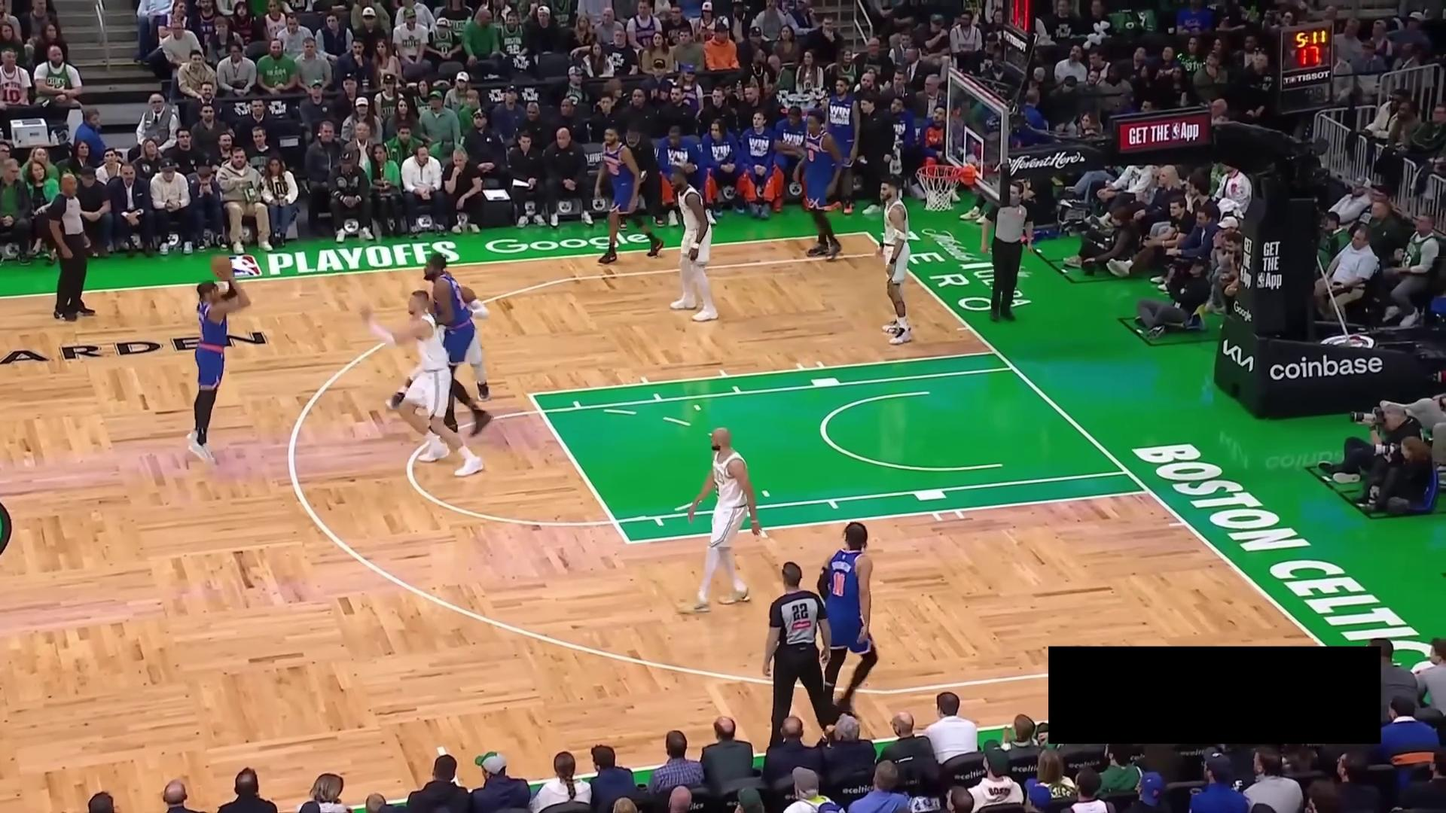ball: (210, 253, 233, 279)
number: (832, 571, 846, 598), (807, 148, 815, 163)
player: (358, 288, 486, 478), (679, 426, 763, 615), (384, 284, 491, 411), (423, 252, 494, 438), (817, 521, 877, 732), (593, 126, 665, 264), (666, 167, 720, 323), (792, 109, 846, 261), (875, 175, 914, 346)
player-jump-shot: (185, 251, 252, 469)
referee: (761, 561, 833, 748), (47, 172, 100, 321), (981, 179, 1035, 323)
rim: (916, 163, 962, 180)
